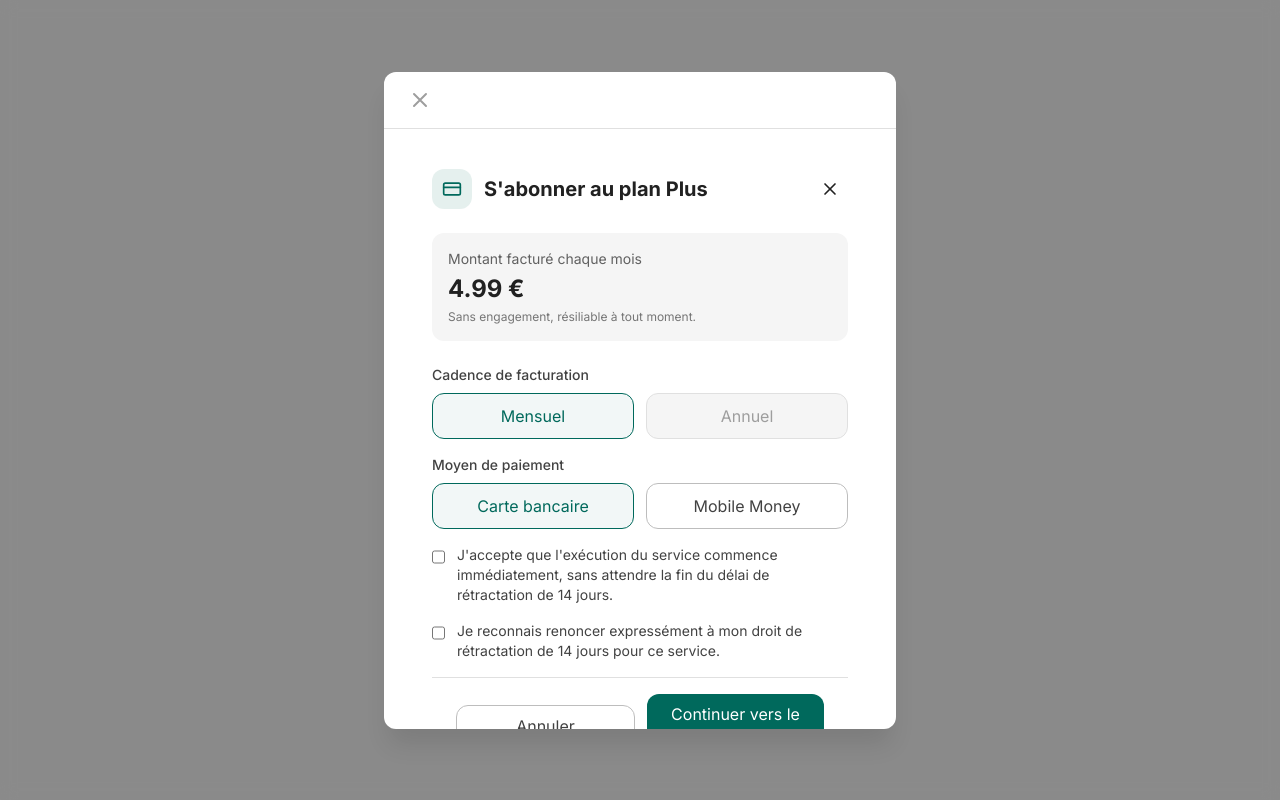
Test case: SubscriptionCheckoutModal - double consentement (art. L.221-28 13° Code conso) › bloque la soumission si une seule des deux cases est cochee
Click the 1st checkbox.
click(438, 556)  # box [432,548,445,564]
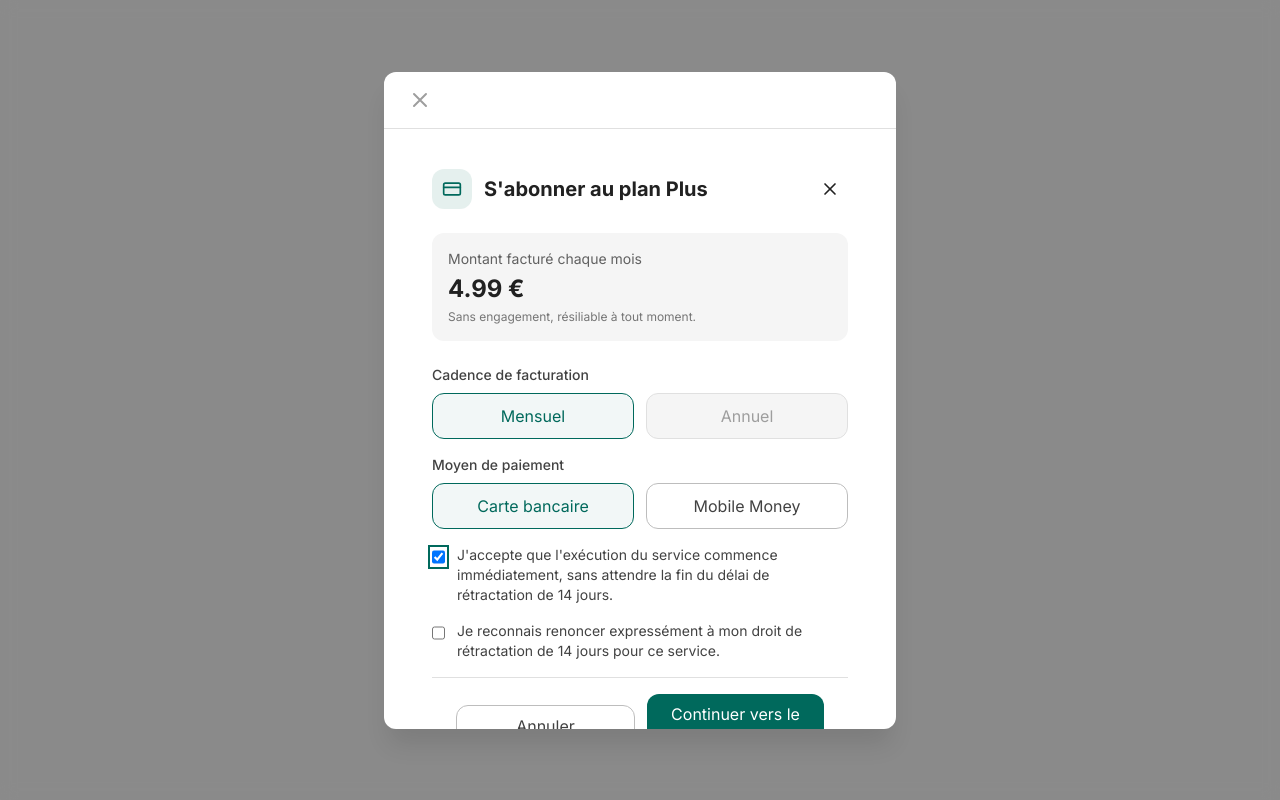
Click the button "Continuer vers le paiement".
click(736, 726)  # box [647,694,824,758]
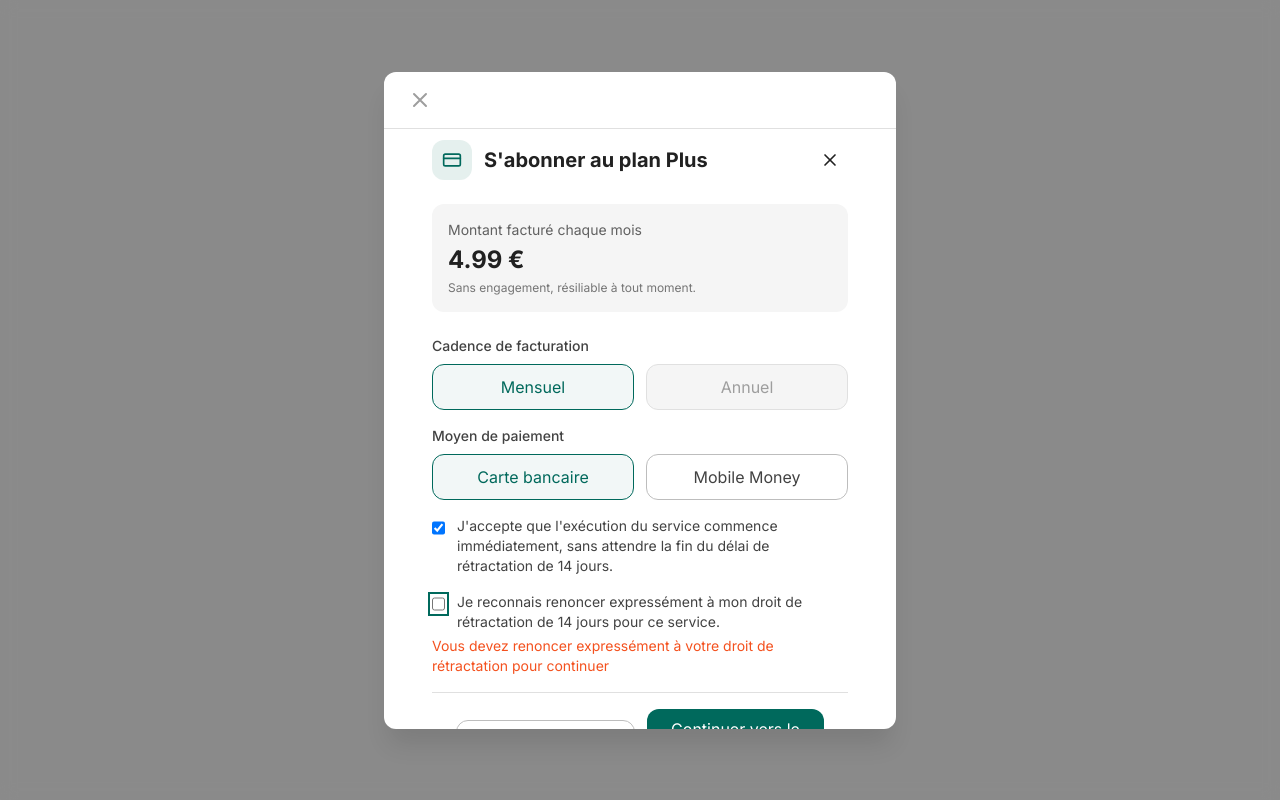
expect the text "Vous devez renoncer expressément" is shown: met, box [432,636,774,674]
